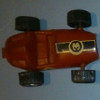rojo_este: (2, 11, 98, 85)
